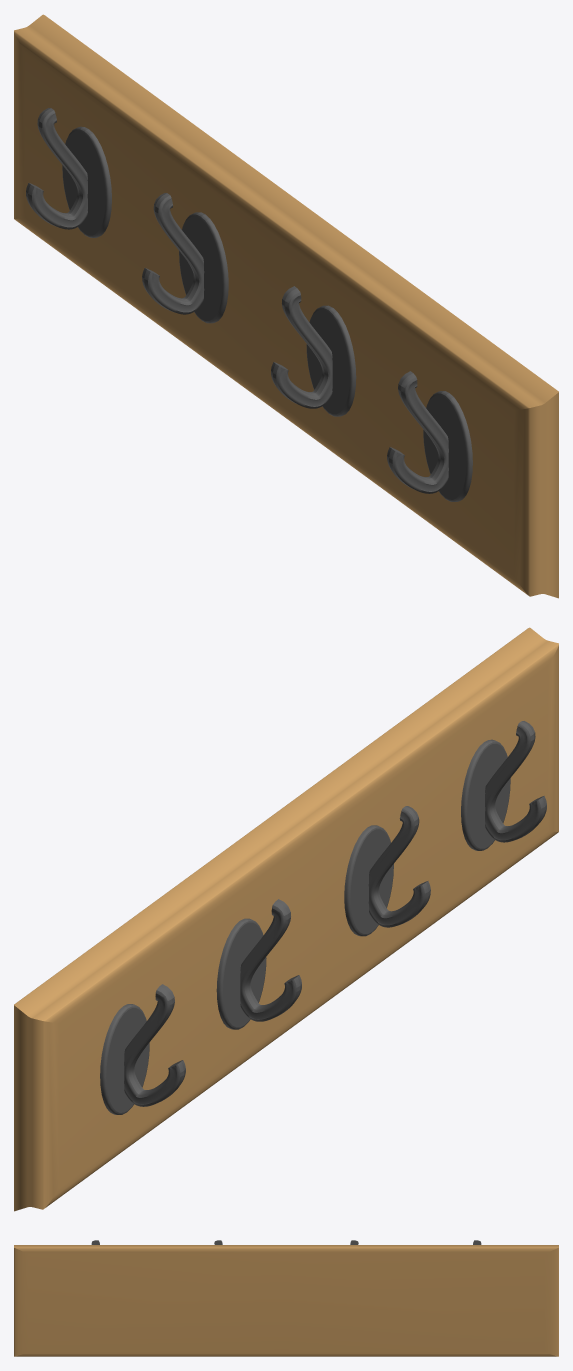
File: JacketHanger.fbx
3 renders of one model, top to bottom at view 1: azimuth 30°, elevation 25°; view 2: azimuth 150°, elevation 25°; view 3: azimuth 270°, elevation 25°, orthographic. The views are drawn at different scales.
Parts seen in each view (by area): view 1: Cube; view 2: Cube; view 3: Cube.
Part boxes in pixels (left/top/right/bottom): Cube: left=14, top=14, right=558, bottom=598; Cube: left=14, top=627, right=558, bottom=1211; Cube: left=14, top=1240, right=558, bottom=1356.
Size of the model in its own units: 4.33 by 8.99 by 40.75.
